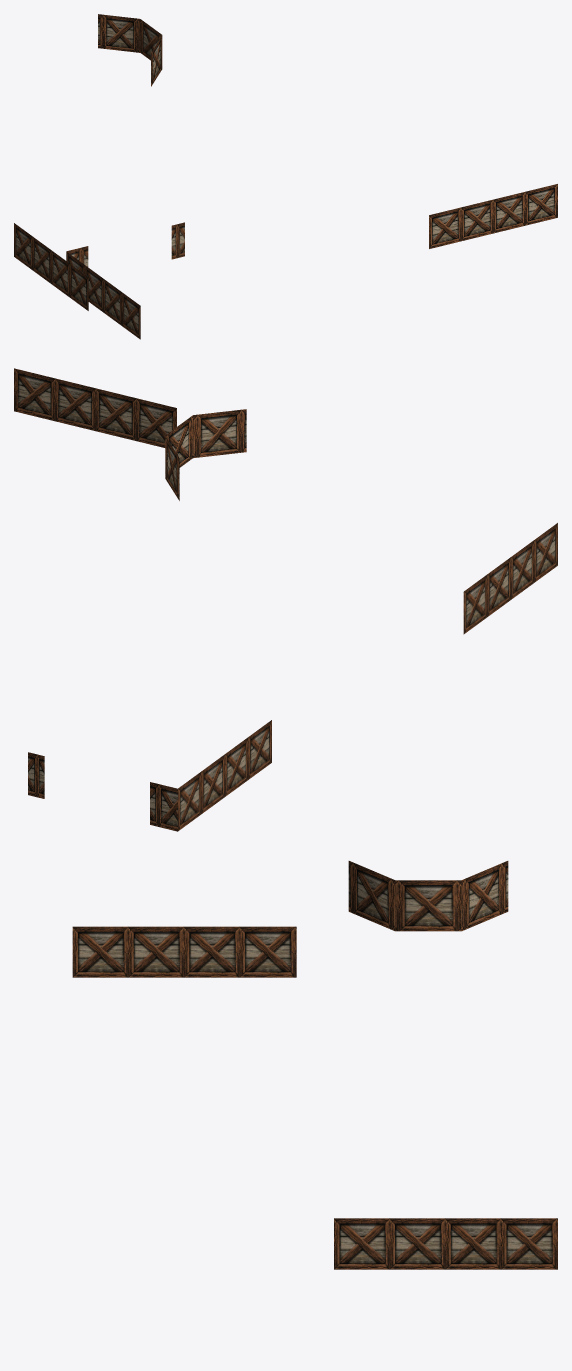
Rendered from LAKETOWN_EXTERIOR_PS_LT_PANELS_93938.fbx.
3 views of the same model, one above another, from view 1: azimuth 30°, elevation 25°; view 2: azimuth 150°, elevation 25°; view 3: azimuth 270°, elevation 25° (orthographic). The views are drawn at different scales.
Parts seen in each view (by area): view 1: LAKETOWN_EXTERIOR_PS_LT_PANELS_93938; view 2: LAKETOWN_EXTERIOR_PS_LT_PANELS_93938; view 3: LAKETOWN_EXTERIOR_PS_LT_PANELS_93938.
Part boxes in pixels (x1,y1,x2,y2): LAKETOWN_EXTERIOR_PS_LT_PANELS_93938: [14, 14, 557, 339]; LAKETOWN_EXTERIOR_PS_LT_PANELS_93938: [14, 368, 557, 831]; LAKETOWN_EXTERIOR_PS_LT_PANELS_93938: [72, 861, 557, 1269].
Bounding box in the file's own units: 141758 × 84194 × 98796.
1 material, 1 textured.
